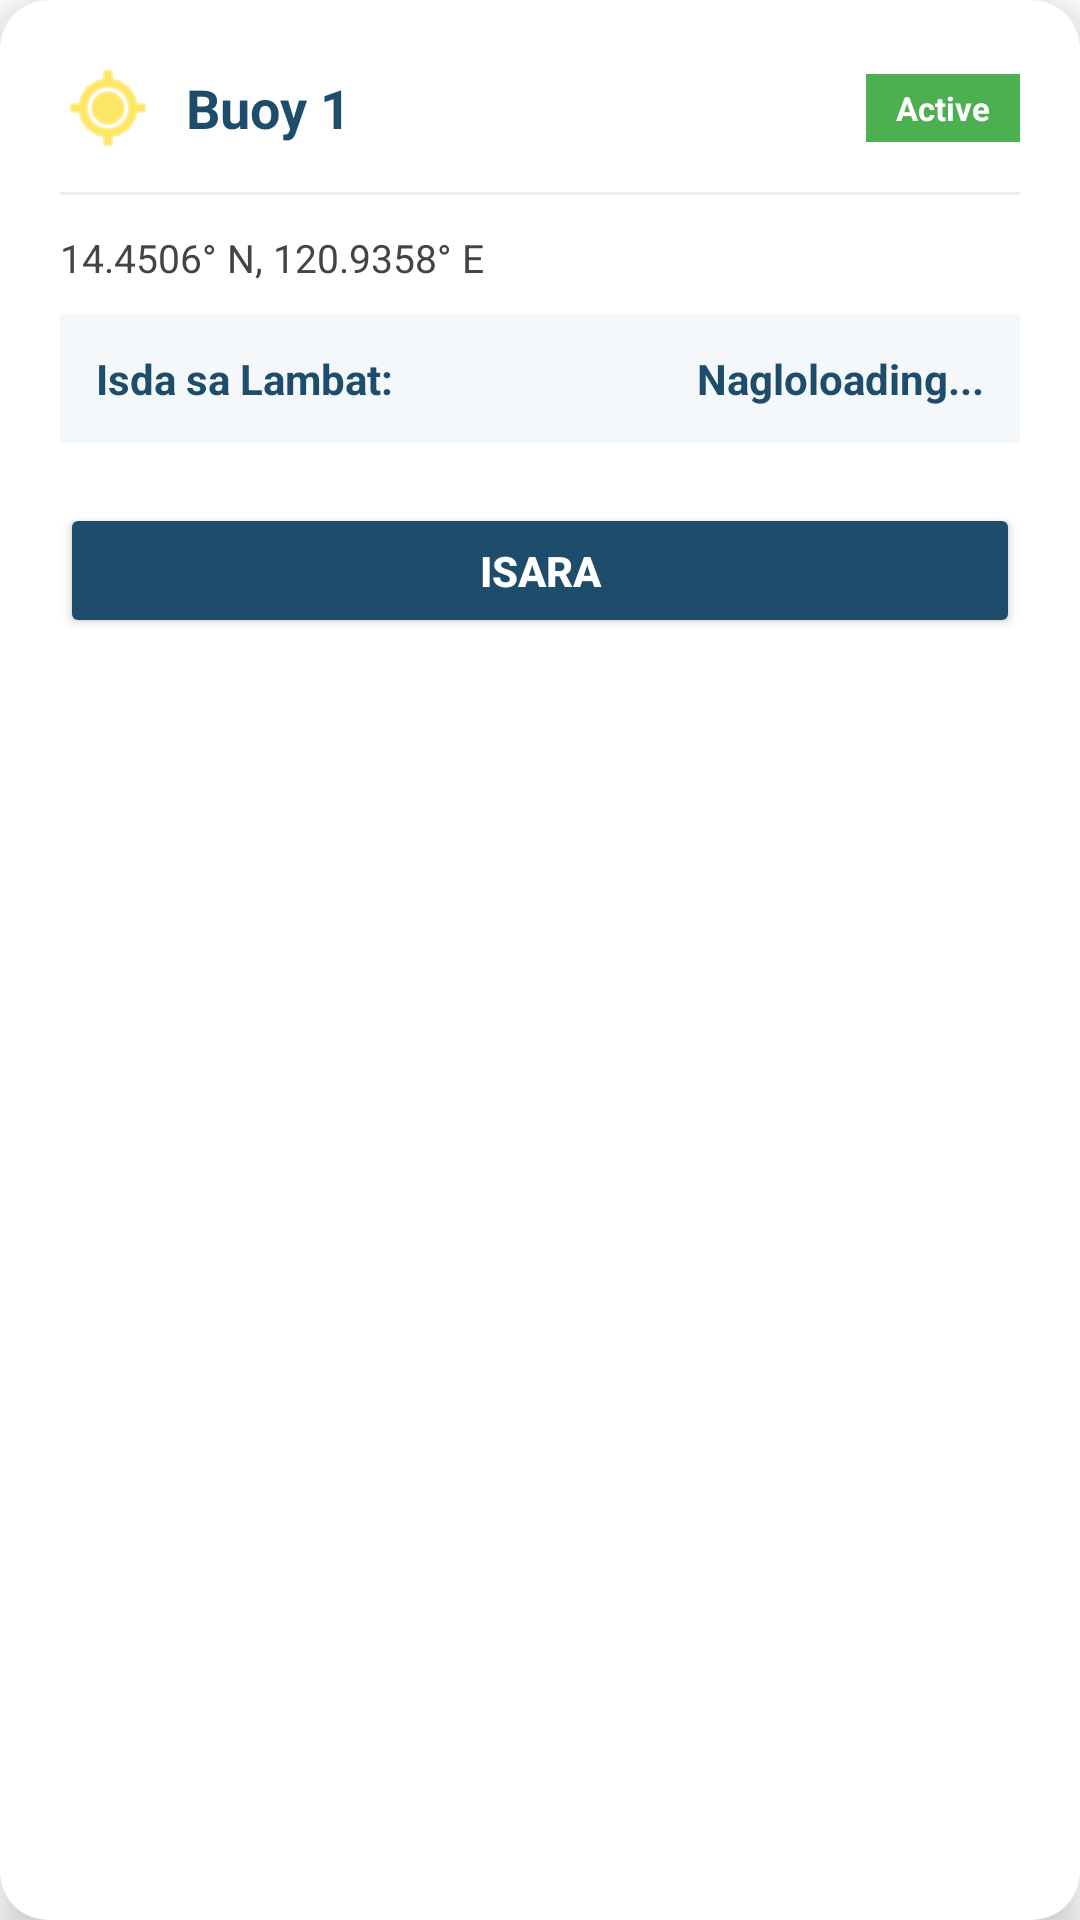

Screen size 1080px x 1920px. Icon name, then its box in pixels as {"left": x1, "top": y1, "right": x2, "bottom": y2}:
mylocation: {"left": 70, "top": 70, "right": 146, "bottom": 146}
